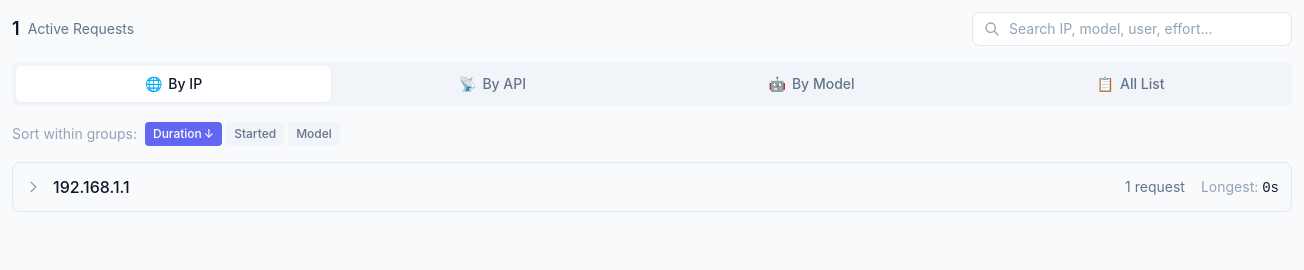
Scenario: LiveRequestsPanel - View Modes › expands group when clicked
Click the text "192.168.1.1" at (91, 187), box [53,175,130,199]
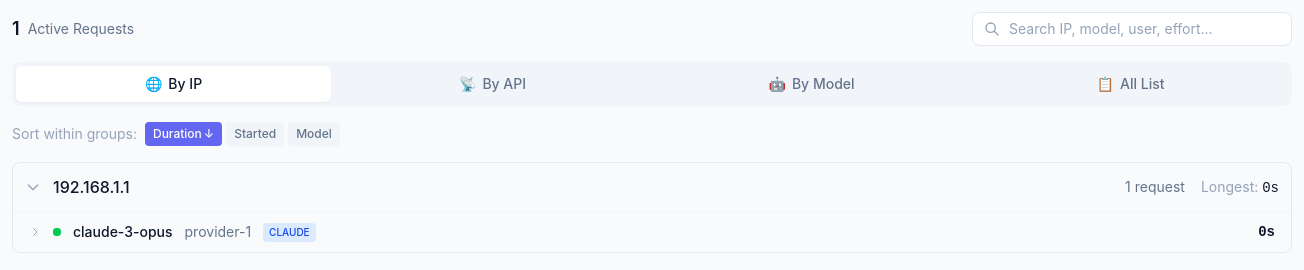
Now the text "claude-3-opus" is shown, box [73,222,172,242]
